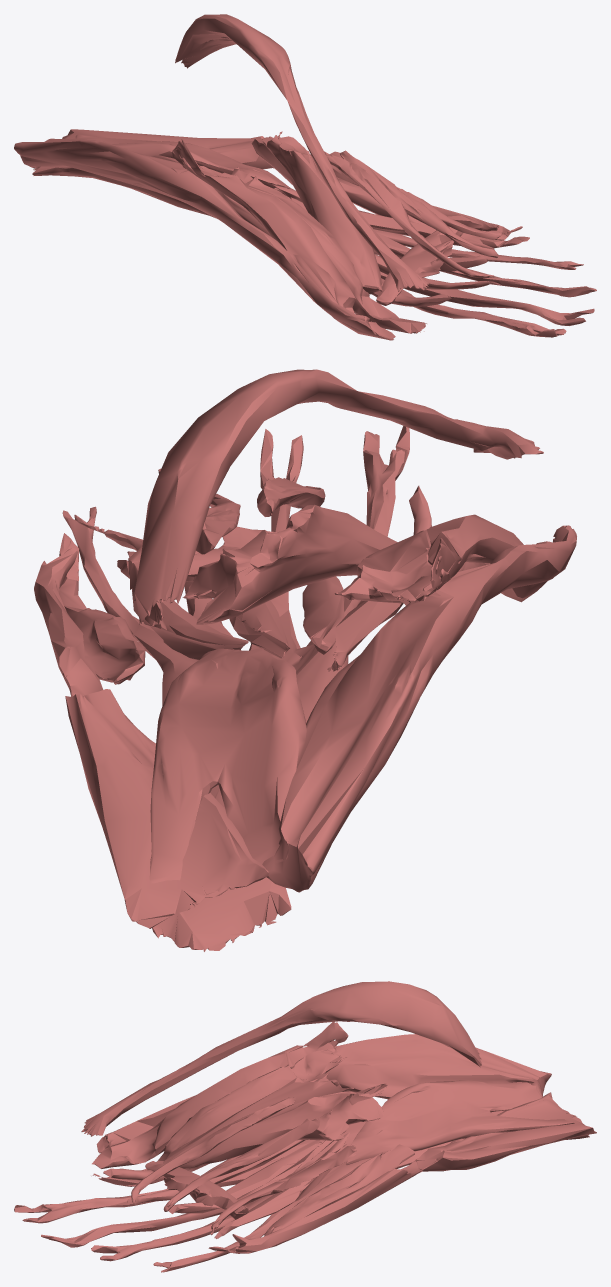
The model's file is muscular-foot-left.glb.
3 views of the same model, one above another, from view 1: azimuth 30°, elevation 25°; view 2: azimuth 150°, elevation 25°; view 3: azimuth 270°, elevation 25° (orthographic). The views are drawn at different scales.
Visible parts, largest first — view 1: bp3d_FMA37460_FJ1400M, bp3d_FMA51145_FJ1407M, bp3d_FMA37462_FJ1413M, bp3d_FMA45972_FJ1396M, bp3d_FMA46019_FJ1398M, bp3d_FMA45974_FJ1393M, bp3d_FMA37464_FJ1390M, bp3d_FMA37466_FJ1412M, bp3d_FMA37746_FJ1384M, bp3d_FMA37744_FJ1386M, bp3d_FMA46021_FJ1445M, bp3d_FMA37472_FJ1391M (+5 smaller); view 2: bp3d_FMA37460_FJ1400M, bp3d_FMA37466_FJ1412M, bp3d_FMA37464_FJ1390M, bp3d_FMA51145_FJ1407M, bp3d_FMA37462_FJ1413M, bp3d_FMA46019_FJ1398M, bp3d_FMA45974_FJ1393M, bp3d_FMA37472_FJ1391M, bp3d_FMA45972_FJ1396M, bp3d_FMA37484_FJ1389M, bp3d_FMA37718_FJ1383M, bp3d_FMA37720_FJ1385M (+5 smaller); view 3: bp3d_FMA51145_FJ1407M, bp3d_FMA37466_FJ1412M, bp3d_FMA37460_FJ1400M, bp3d_FMA37464_FJ1390M, bp3d_FMA37462_FJ1413M, bp3d_FMA46019_FJ1398M, bp3d_FMA45972_FJ1396M, bp3d_FMA45974_FJ1393M, bp3d_FMA37472_FJ1391M, bp3d_FMA37486_FJ1387M, bp3d_FMA37746_FJ1384M, bp3d_FMA37744_FJ1386M (+5 smaller).
Boxes of the visible parts, x1=… form: bp3d_FMA37460_FJ1400M: x1=14, y1=138, x2=376, y2=334; bp3d_FMA51145_FJ1407M: x1=175, y1=14, x2=428, y2=291; bp3d_FMA37462_FJ1413M: x1=31, y1=166, x2=596, y2=337; bp3d_FMA45972_FJ1396M: x1=172, y1=139, x2=395, y2=340; bp3d_FMA46019_FJ1398M: x1=251, y1=131, x2=382, y2=294; bp3d_FMA45974_FJ1393M: x1=176, y1=146, x2=426, y2=333; bp3d_FMA37464_FJ1390M: x1=62, y1=129, x2=510, y2=240; bp3d_FMA37466_FJ1412M: x1=44, y1=134, x2=295, y2=195; bp3d_FMA37746_FJ1384M: x1=326, y1=155, x2=494, y2=277; bp3d_FMA37744_FJ1386M: x1=326, y1=150, x2=498, y2=258; bp3d_FMA46021_FJ1445M: x1=376, y1=226, x2=463, y2=305; bp3d_FMA37472_FJ1391M: x1=337, y1=178, x2=529, y2=248; bp3d_FMA37460_FJ1400M: x1=262, y1=525, x2=576, y2=892; bp3d_FMA37466_FJ1412M: x1=149, y1=648, x2=306, y2=883; bp3d_FMA37464_FJ1390M: x1=34, y1=548, x2=268, y2=928; bp3d_FMA51145_FJ1407M: x1=134, y1=369, x2=543, y2=624; bp3d_FMA37462_FJ1413M: x1=62, y1=426, x2=409, y2=951; bp3d_FMA46019_FJ1398M: x1=182, y1=504, x2=397, y2=624; bp3d_FMA45974_FJ1393M: x1=334, y1=530, x2=480, y2=605; bp3d_FMA37472_FJ1391M: x1=59, y1=533, x2=145, y2=684; bp3d_FMA45972_FJ1396M: x1=426, y1=514, x2=551, y2=602; bp3d_FMA37484_FJ1389M: x1=117, y1=560, x2=248, y2=660; bp3d_FMA37718_FJ1383M: x1=327, y1=485, x2=431, y2=671; bp3d_FMA37720_FJ1385M: x1=301, y1=507, x2=344, y2=654; bp3d_FMA51145_FJ1407M: x1=81, y1=981, x2=481, y2=1136; bp3d_FMA37466_FJ1412M: x1=346, y1=1080, x2=574, y2=1164; bp3d_FMA37460_FJ1400M: x1=96, y1=1034, x2=551, y2=1153; bp3d_FMA37464_FJ1390M: x1=232, y1=1092, x2=596, y2=1252; bp3d_FMA37462_FJ1413M: x1=14, y1=1110, x2=589, y2=1272; bp3d_FMA46019_FJ1398M: x1=163, y1=1077, x2=384, y2=1168; bp3d_FMA45972_FJ1396M: x1=92, y1=1021, x2=348, y2=1168; bp3d_FMA45974_FJ1393M: x1=92, y1=1039, x2=346, y2=1186; bp3d_FMA37472_FJ1391M: x1=208, y1=1144, x2=414, y2=1253; bp3d_FMA37486_FJ1387M: x1=168, y1=1133, x2=342, y2=1213; bp3d_FMA37746_FJ1384M: x1=131, y1=1097, x2=296, y2=1203; bp3d_FMA37744_FJ1386M: x1=163, y1=1118, x2=319, y2=1211.
Bounding box in the file's own units: 0.1105 × 0.0654 × 0.1745.
